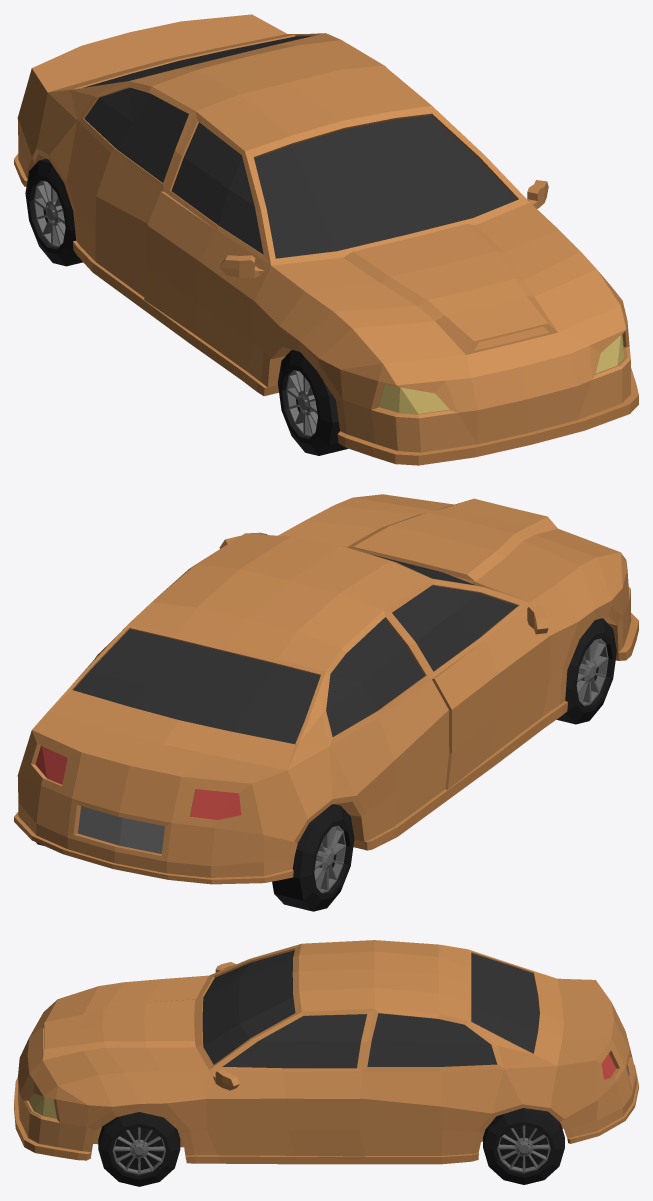
File: car_sport2.glb
3 renders of one model, top to bottom at view 1: azimuth 30°, elevation 25°; view 2: azimuth 150°, elevation 25°; view 3: azimuth 270°, elevation 25°, orthographic. The views are drawn at different scales.
Visible parts, largest first — view 1: SportsCar_Cube.005; view 2: SportsCar_Cube.005; view 3: SportsCar_Cube.005.
Part boxes in pixels (<box>): SportsCar_Cube.005: <box>14,14,638,465</box>; SportsCar_Cube.005: <box>14,494,638,911</box>; SportsCar_Cube.005: <box>14,940,638,1186</box>.
Bounding box in the file's own units: 1.8 × 1.16 × 3.97.
1 material, 1 textured.
